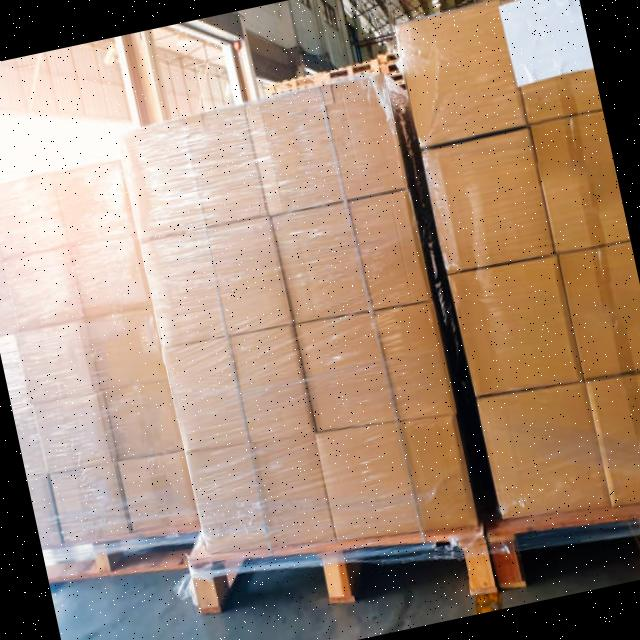Wooden-Pallets: (176, 525, 507, 617), (43, 532, 192, 602)
